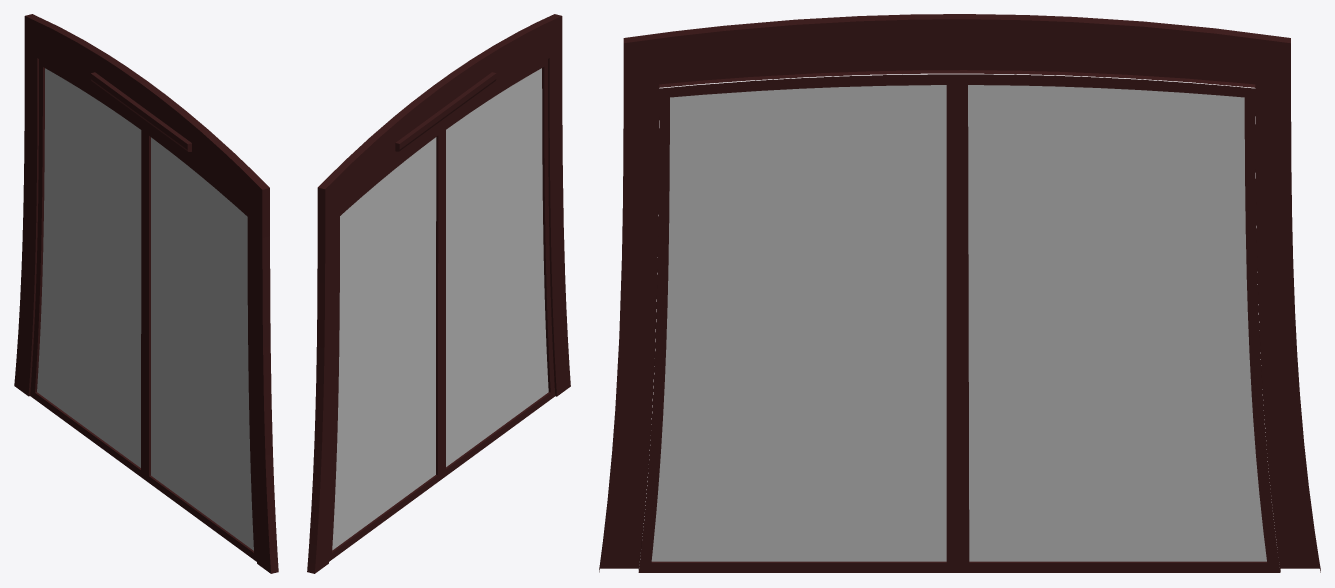
The model's file is door funky.FBX.
3 views of the same model, side by side, from view 1: azimuth 30°, elevation 25°; view 2: azimuth 150°, elevation 25°; view 3: azimuth 270°, elevation 25° (orthographic). The views are drawn at different scales.
Visible parts, largest first — view 1: windows, Door Frame; view 2: windows, Door Frame; view 3: windows, Door Frame.
Boxes of the visible parts, x1,y1,x2,y2 form: windows: (37,68,253,550); Door Frame: (14,14,278,573); windows: (332,68,548,550); Door Frame: (307,14,570,573); windows: (651,85,1266,561); Door Frame: (599,14,1320,572).
Size of the model in its own units: 4.63 by 145 by 171.
